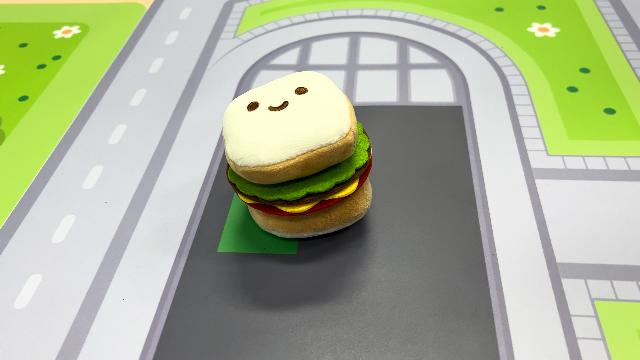sandwich: (220, 68, 376, 240)
